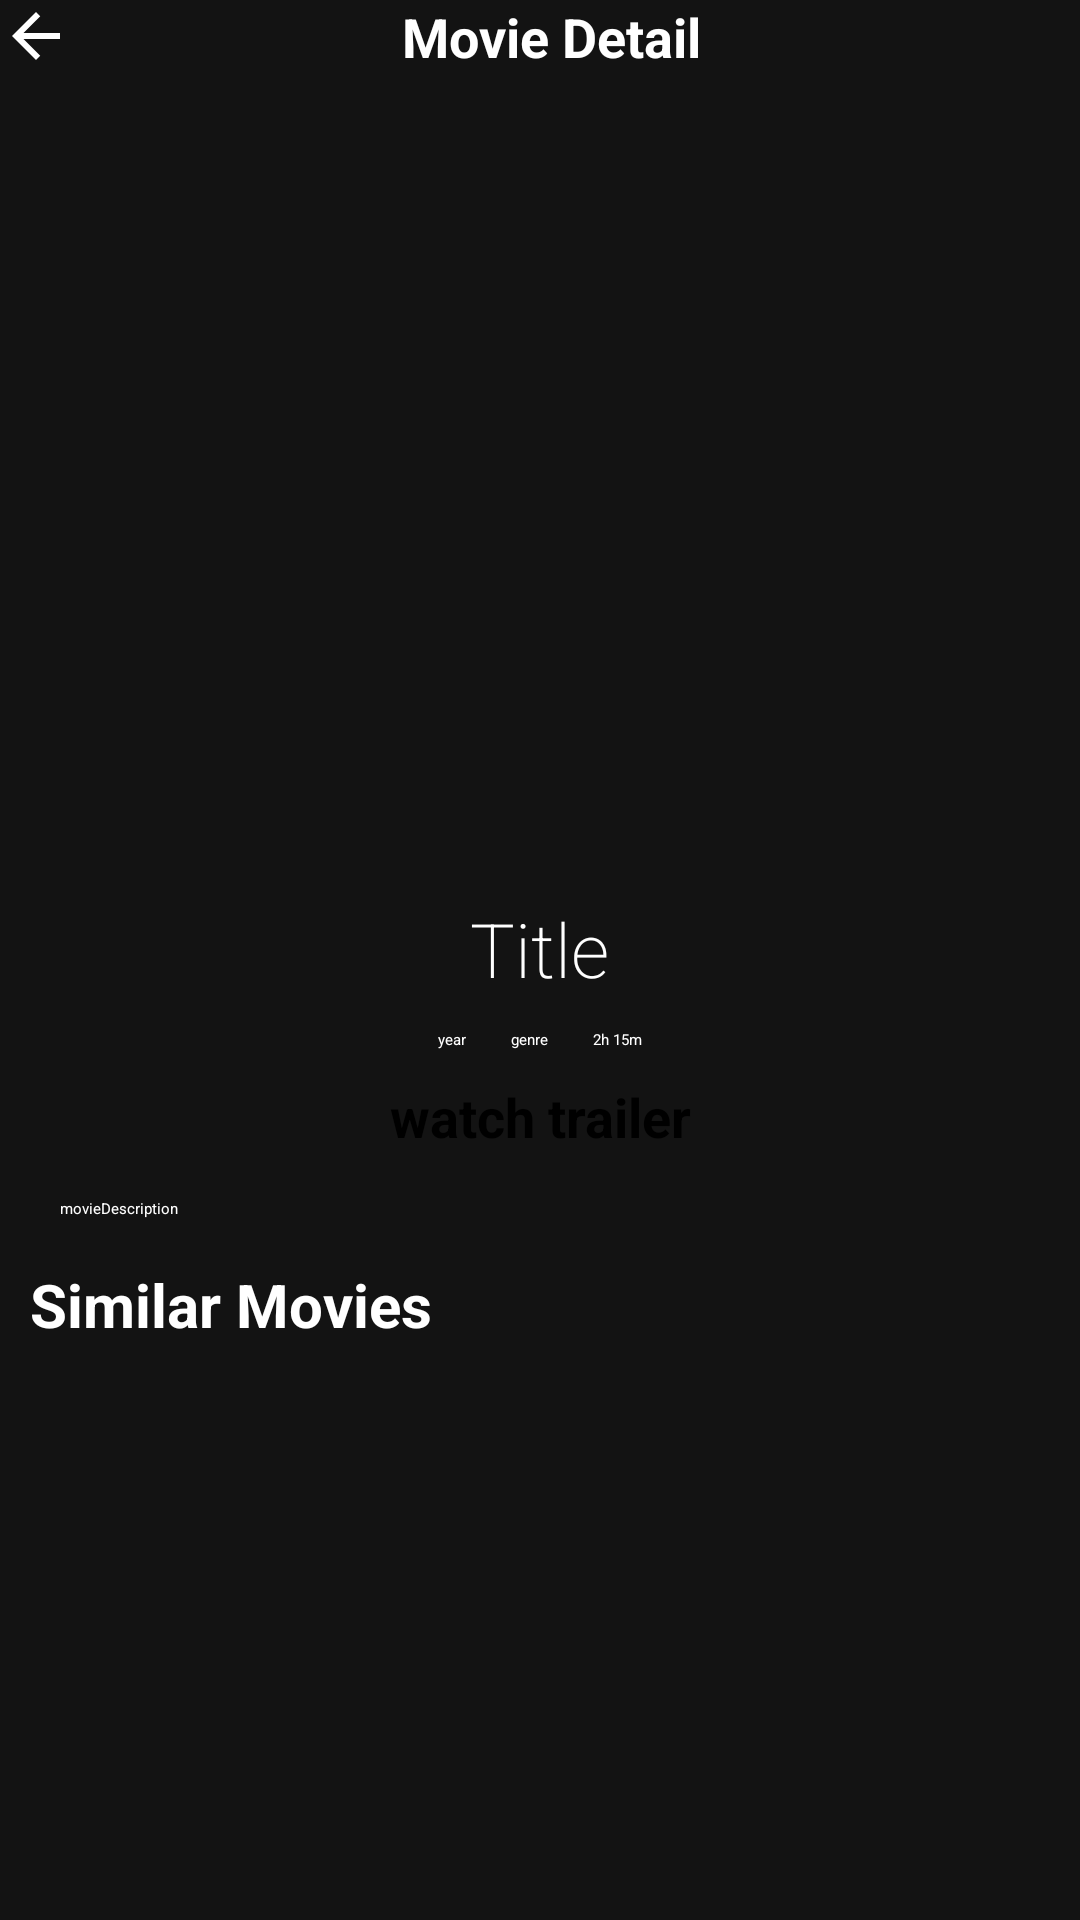

Where icons sit on this 1080*1920 app screen, as (x1, y1, x2, y2):
arrow back: (12, 12, 60, 60)
